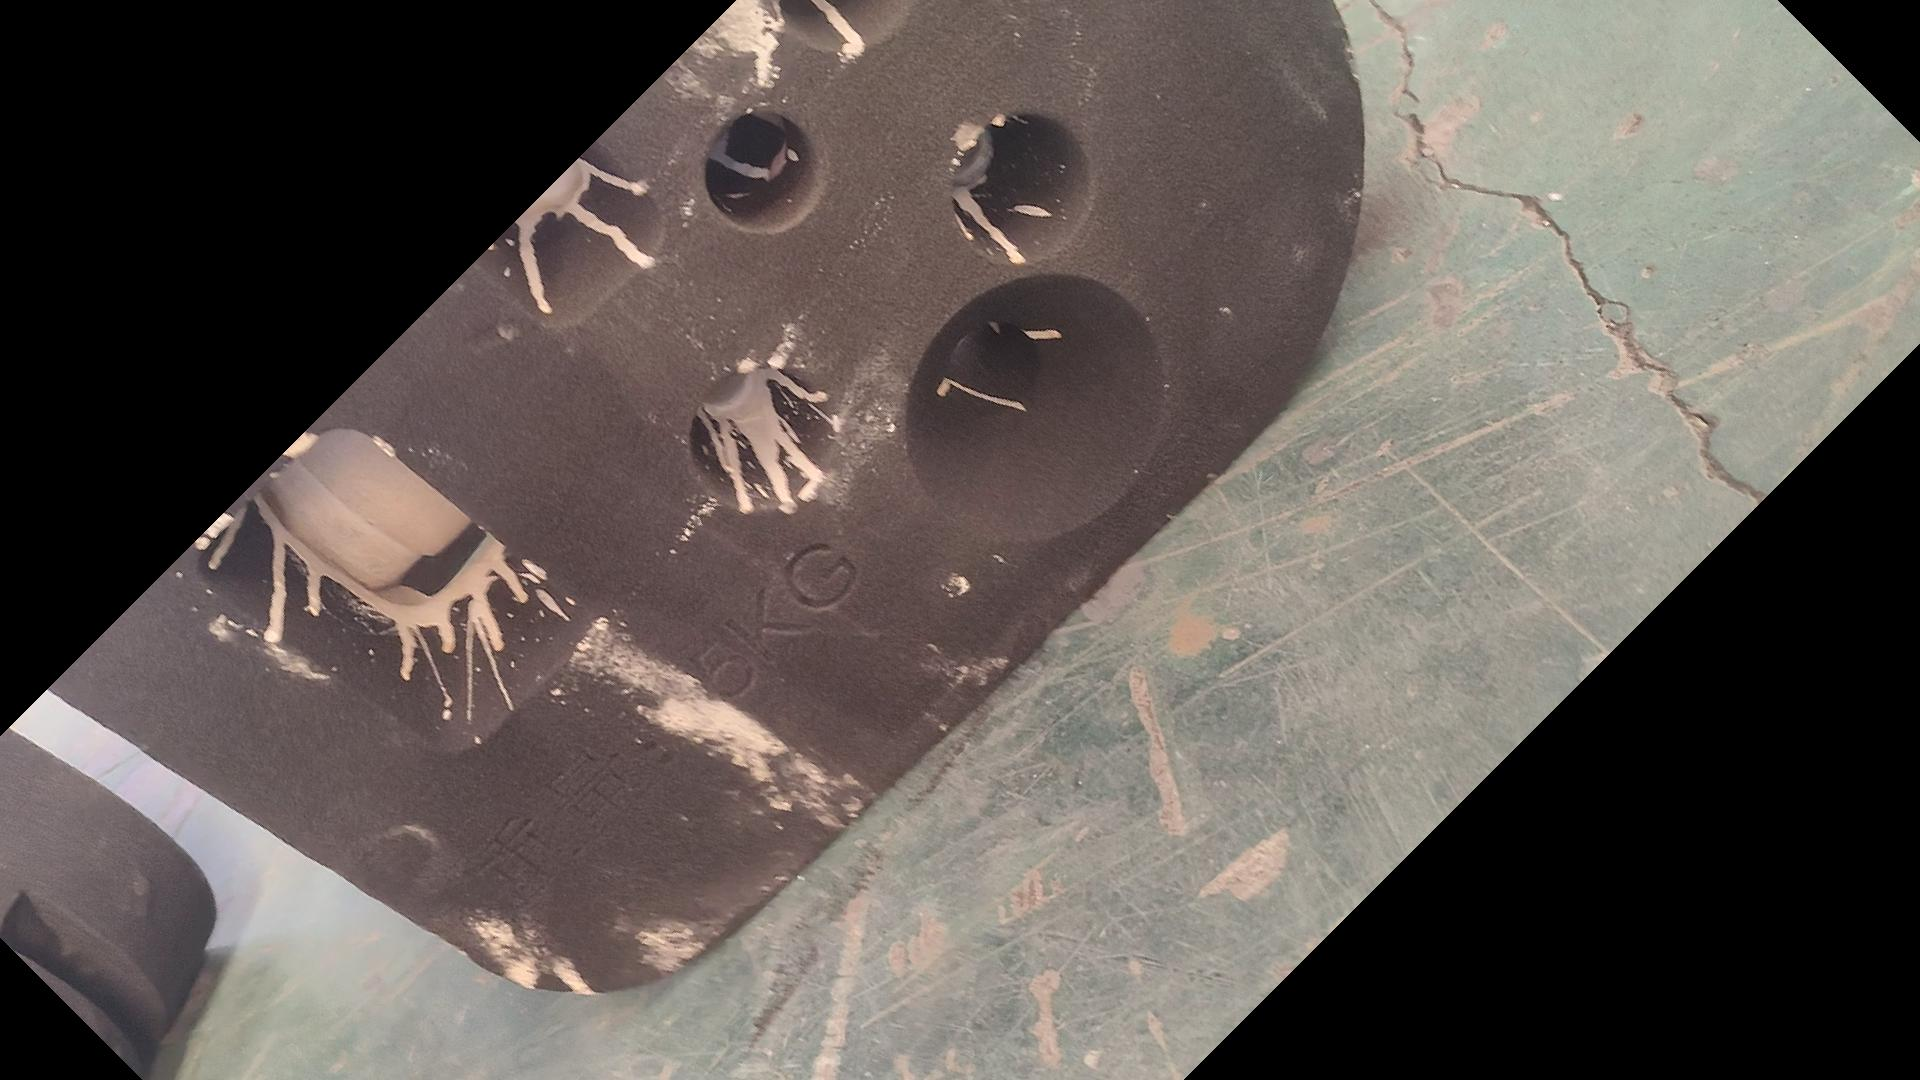pouring hole: (905, 272, 1166, 539)
